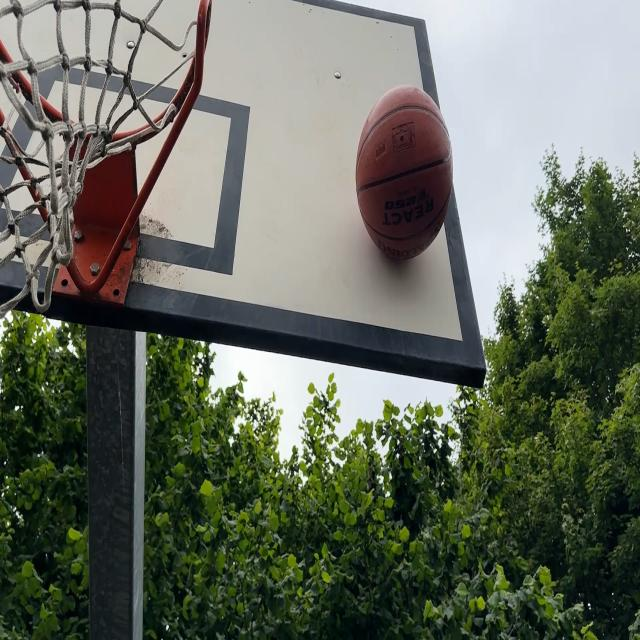rebound_hit: (356, 83, 454, 270)
